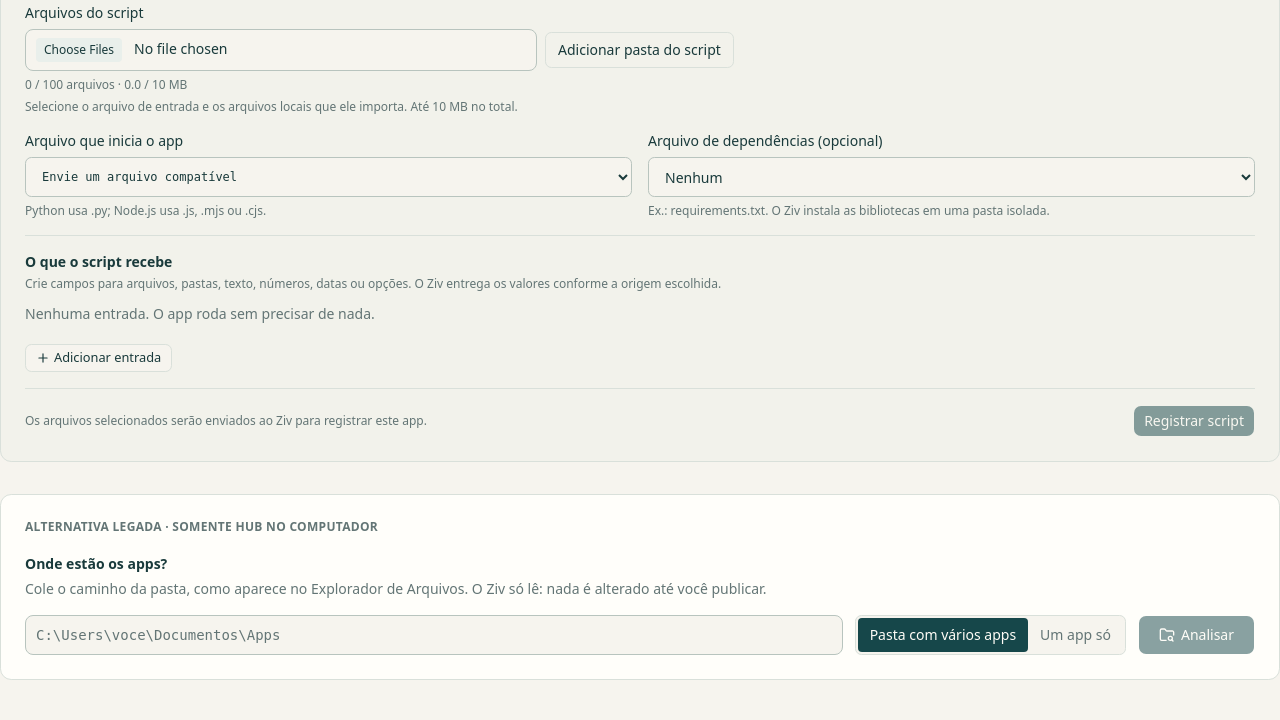
Test case: scans a folder, lists apps and moves to the next after publishing
The width and height of the screenshot is (1280, 720).
(page scrolled)
In the field labelled "Onde estão os apps?": [434, 635] box [25,615,843,655], type "C:\\apps"
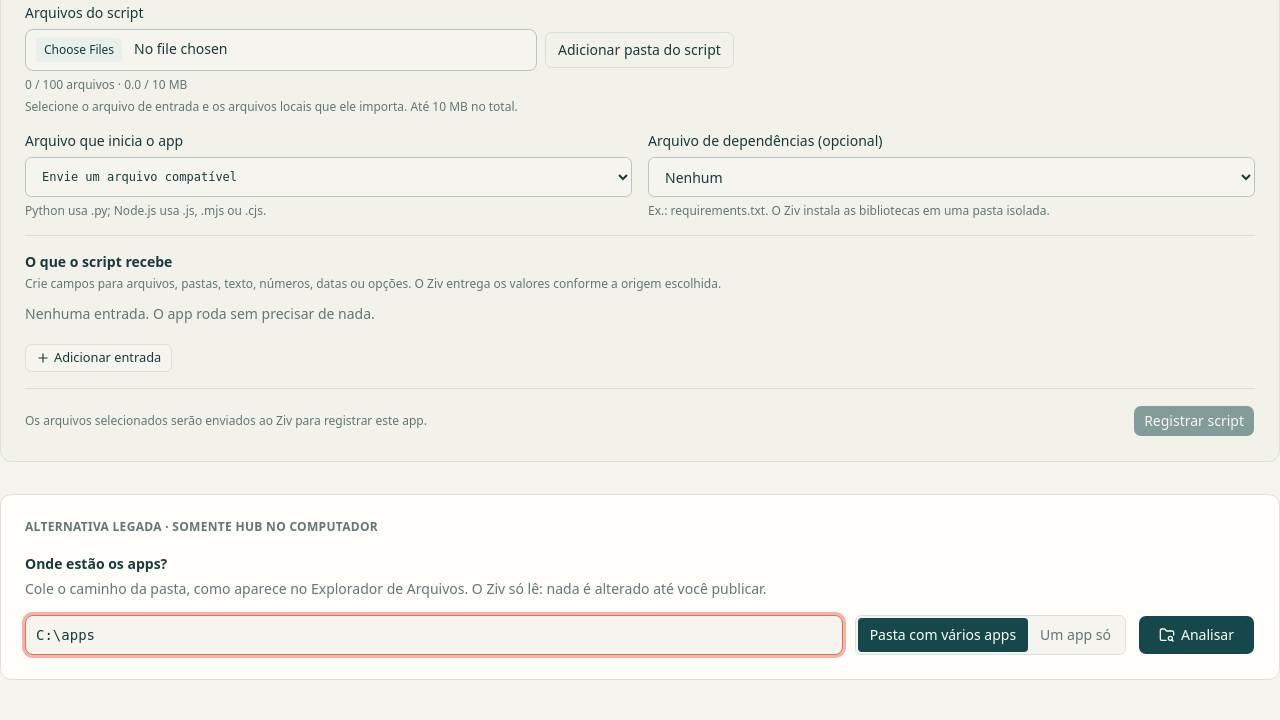
Click the button "Analisar": [1196, 635] box [1138,615,1255,655]
(page scrolled)
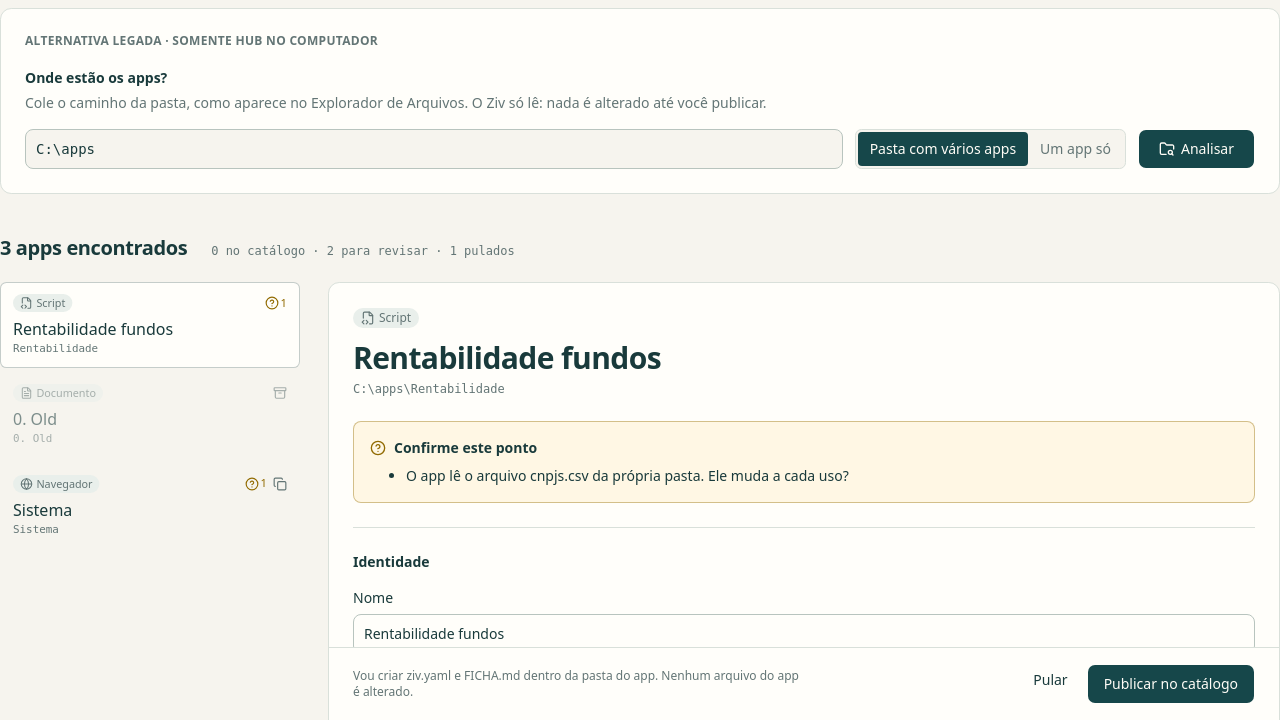
Now the text "3 apps encontrados" is shown, box [0,234,187,262]
Now the text "0 no catálogo · 2 para revisar · 1 pulados" is shown, box [211,243,515,259]
Now the heading "Rentabilidade fundos" is shown, box [353,339,661,376]
Click the button "Publicar no catálogo": [1171, 684] box [1087,664,1255,704]
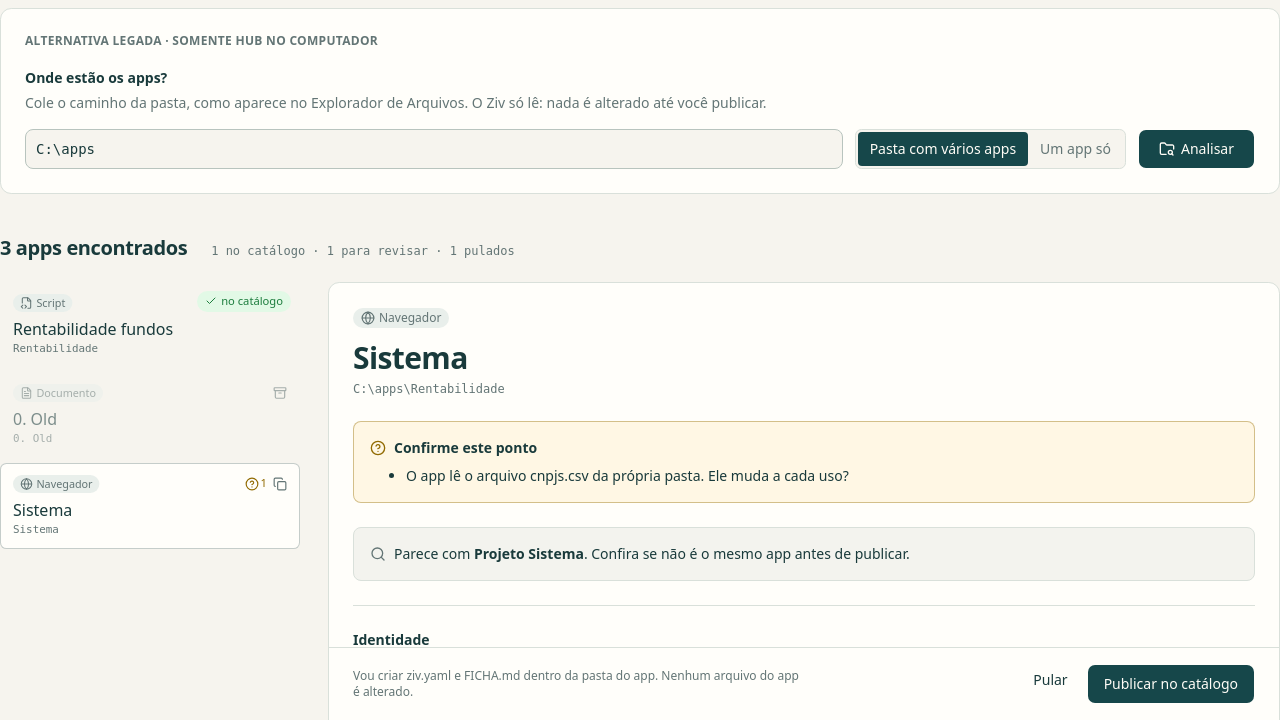
Now the text "1 no catálogo · 1 para revisar · 1 pulados" is shown, box [211,243,515,259]
Now the heading "Sistema" is shown, box [353,337,468,378]
Now the text "Parece com" is shown, box [394,544,474,562]
